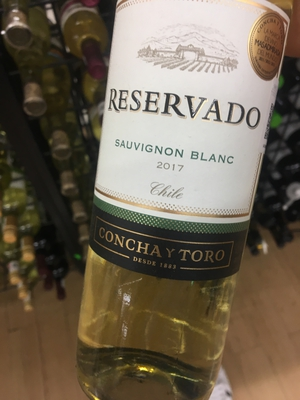reservado sauvignon blanc: (78, 1, 300, 380)
